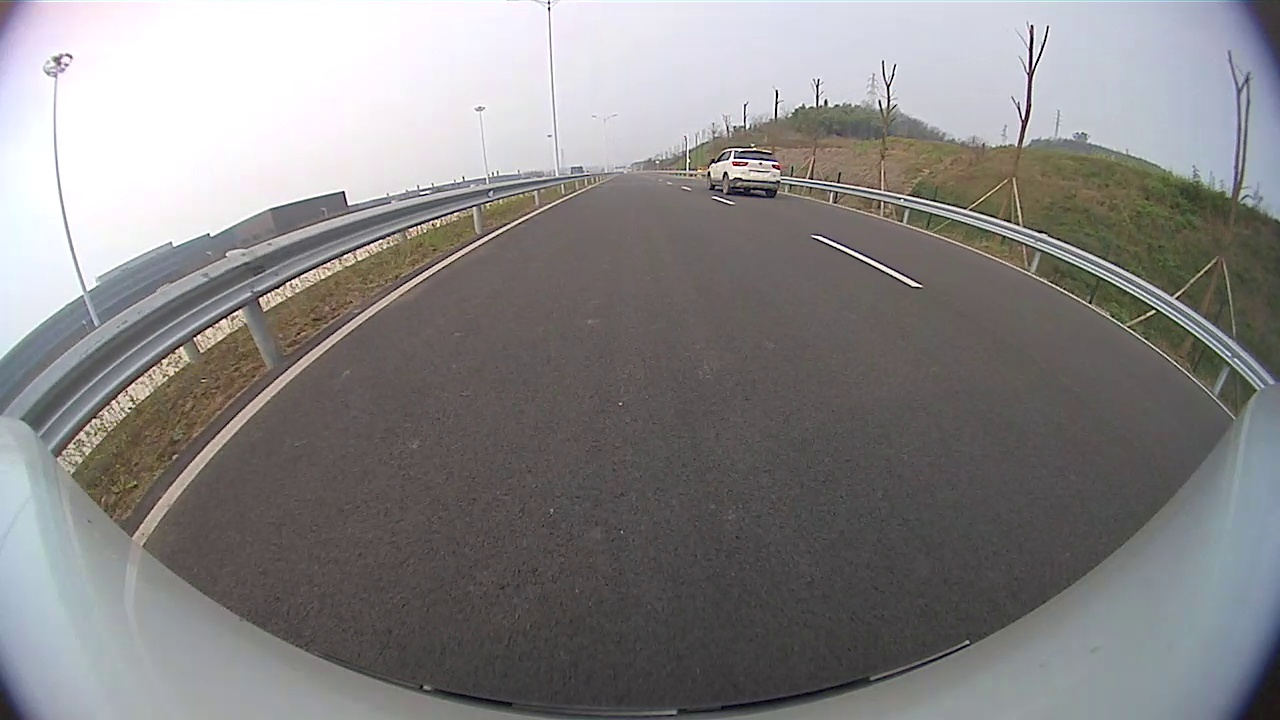car: (707, 148, 782, 199)
front: (706, 173, 714, 190)
rear: (721, 174, 733, 197)
